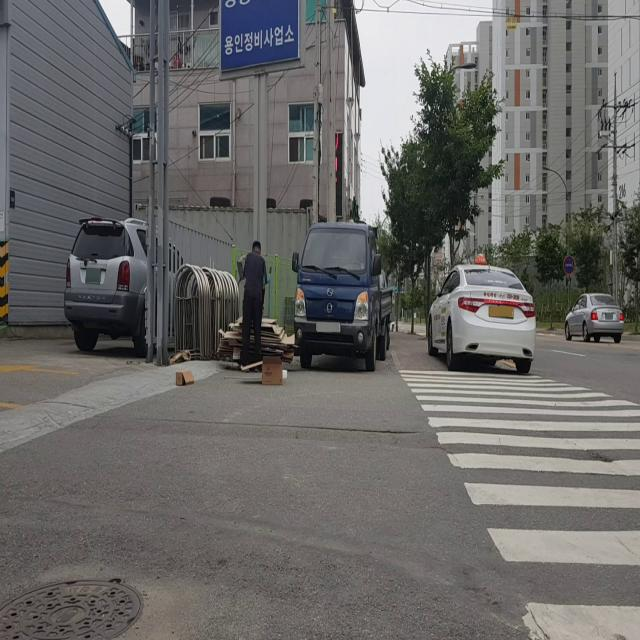횡단보도: (397, 368, 640, 640)
